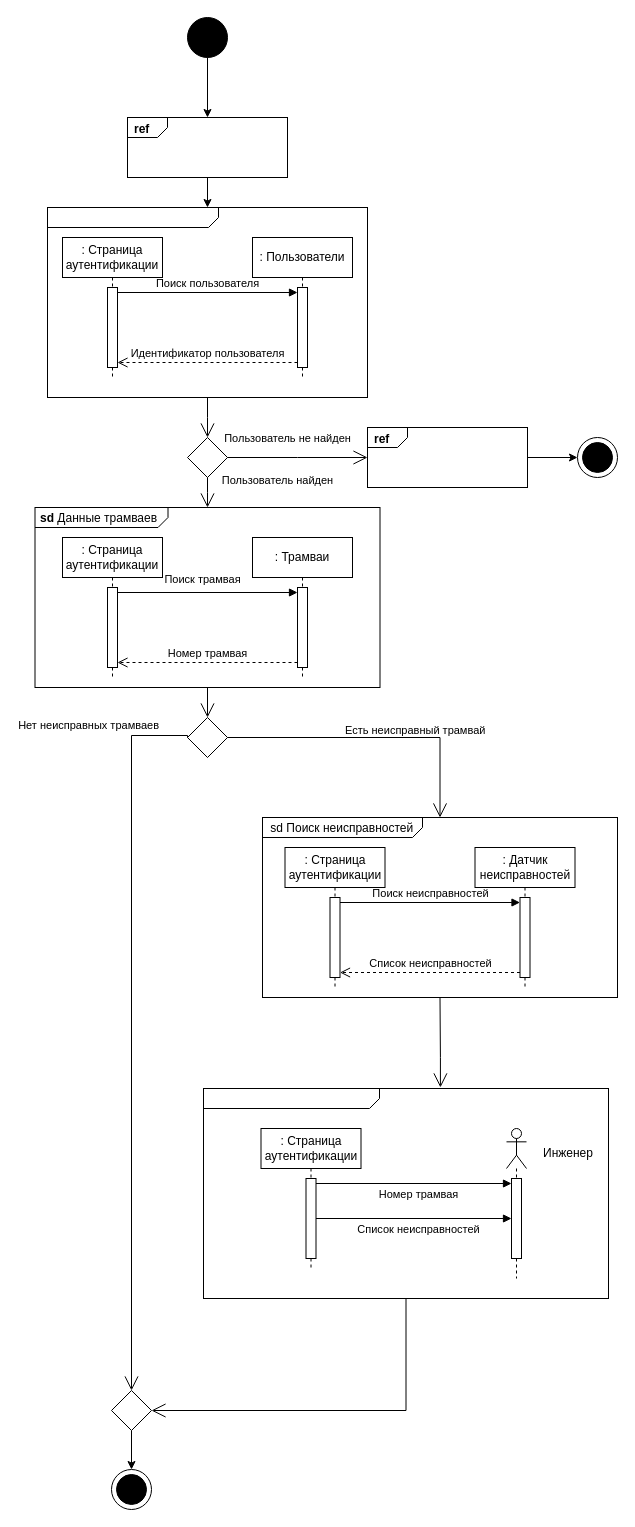
Some shapes in this 635 by 1527 pixel diagram are drawn without their labels. Each missing label, with the box of its shape:
sd Получение пользователя: (46, 206, 368, 398)
sd Уведомление инженера: (202, 1088, 608, 1298)
Вернуть ошибку: (366, 426, 528, 488)
Получить запрос пользователя: (126, 116, 288, 178)
